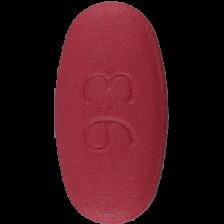66116-418: (0, 0, 224, 224)
